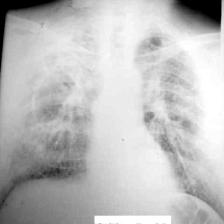tuberculosis: (0, 25, 224, 224)
